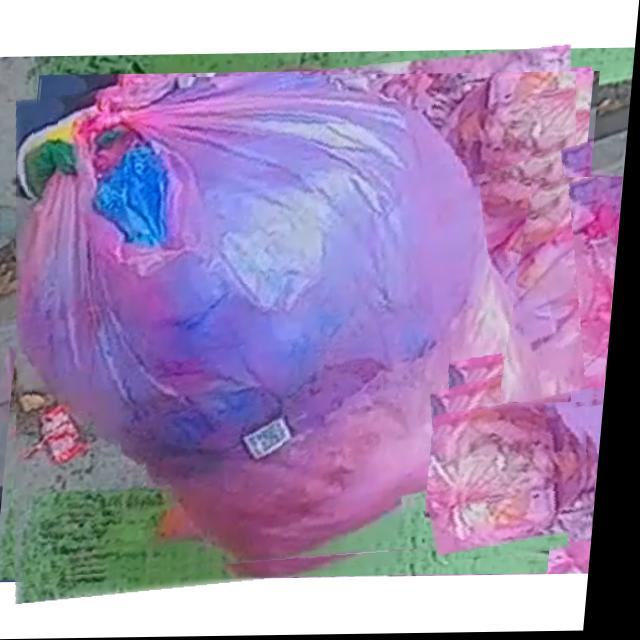other_trashbag: (23, 77, 580, 565), (508, 179, 621, 402), (437, 404, 598, 547)
